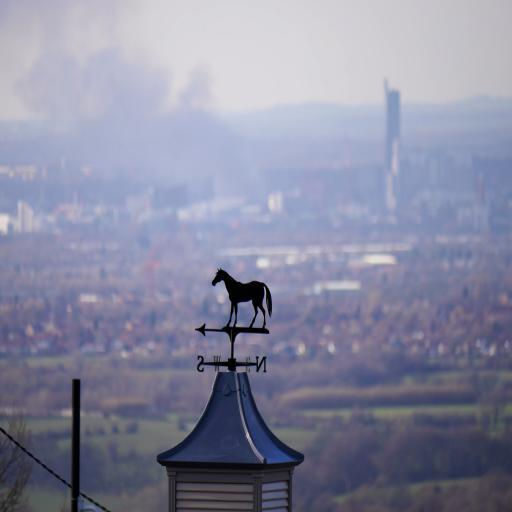horse: (212, 266, 275, 329)
